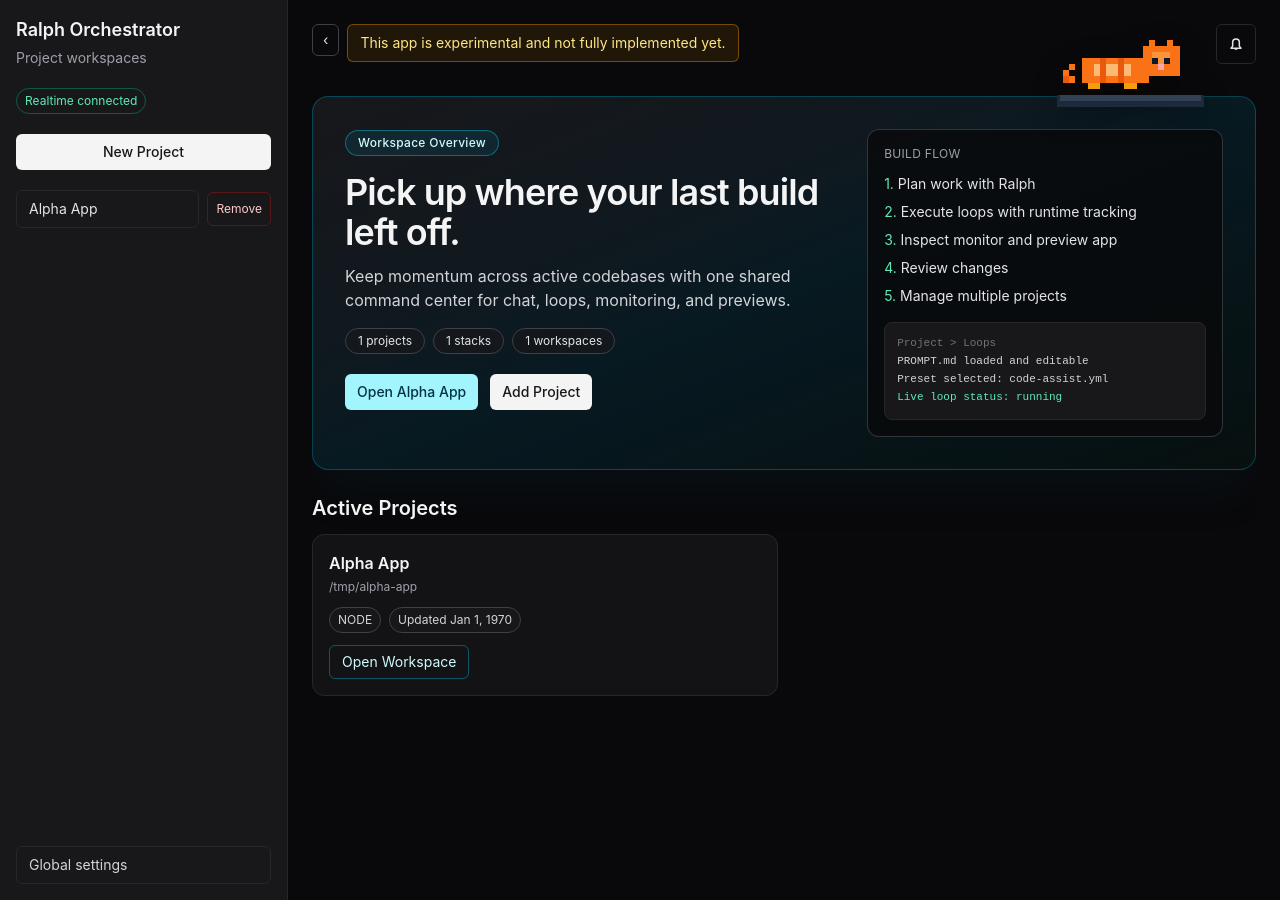
Test: App › includes tasks tab and renders tasks view when selected
Click the button "Alpha App". click: point(108, 209)
box: x1=16 y1=190 x2=200 y2=228
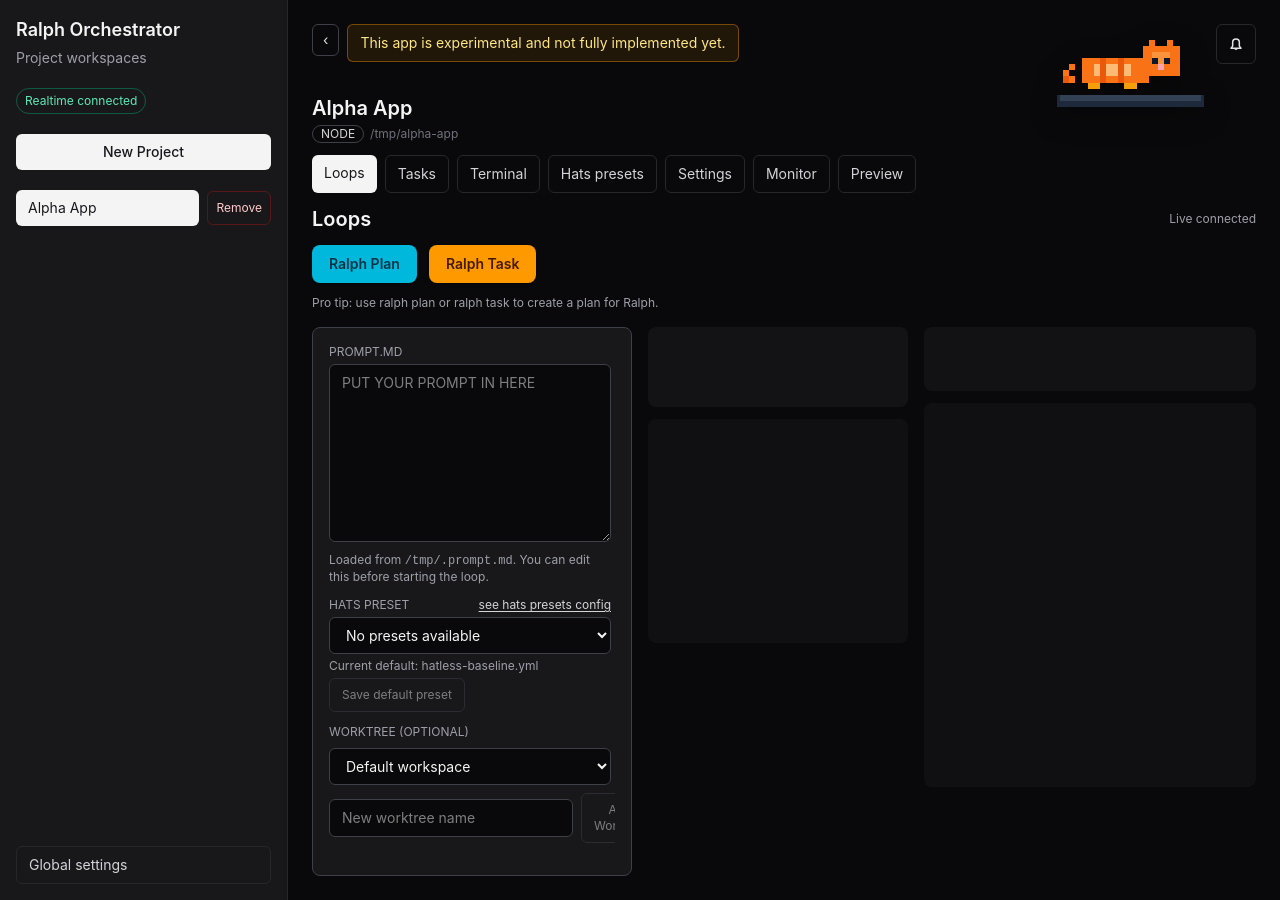
Click the link "Tasks". click: point(417, 174)
box: x1=385 y1=155 x2=449 y2=193
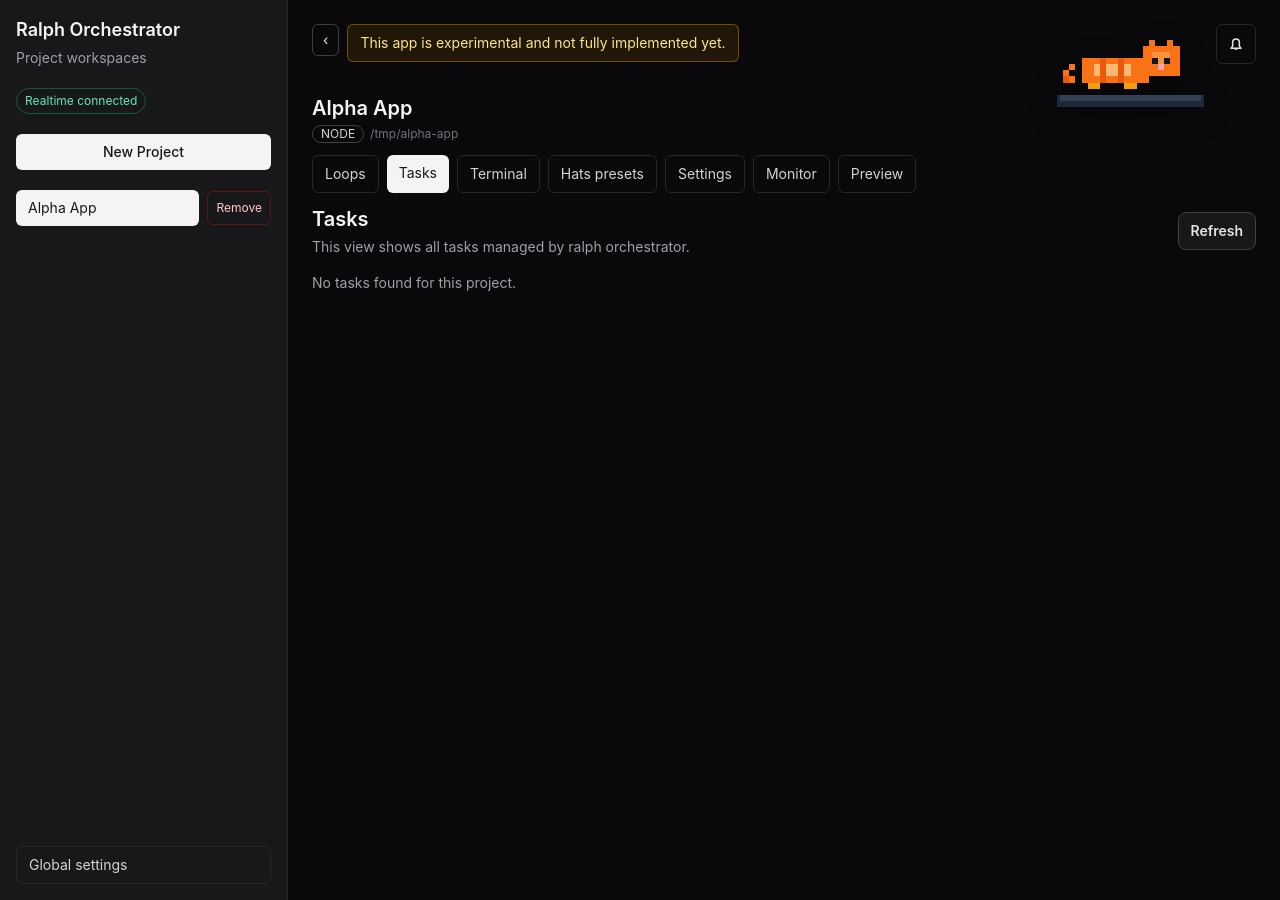
Expected: the heading "Tasks" is shown, x1=312 y1=207 x2=369 y2=231
